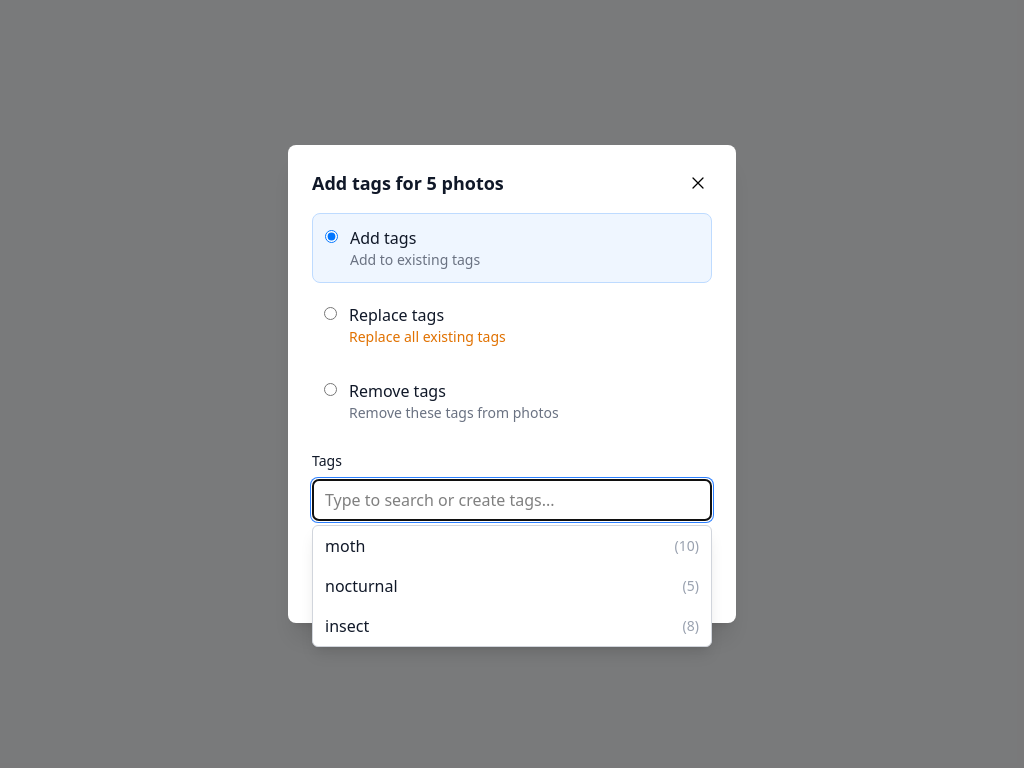
Scenario: BulkTagModal › Tag Input › can remove tags by clicking X on chip
This screenshot has width=1024, height=768.
Type "moth" into the field with placeholder "Type to search or create tags...".
click(512, 500); type("moth")  # box [312, 479, 712, 521]
Then press Enter
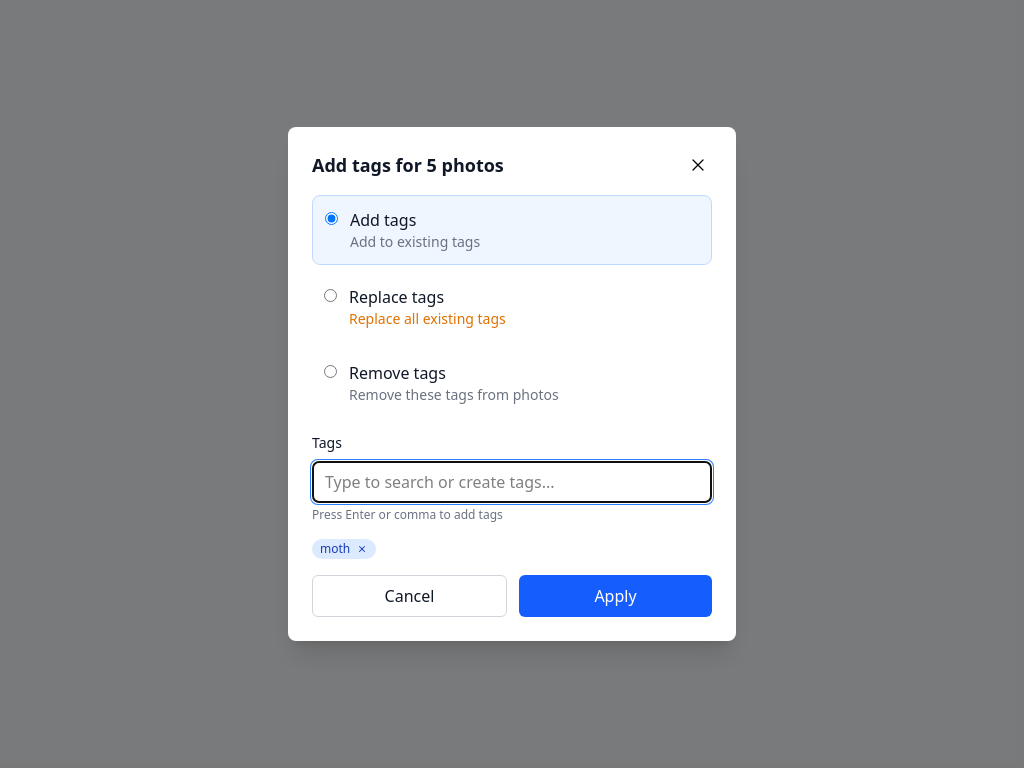
Expected: the text "moth" is shown, [320, 541, 350, 557]
Note: Click remove button
Click the button named "Remove tag moth".
click(362, 549)  # box [356, 543, 368, 555]
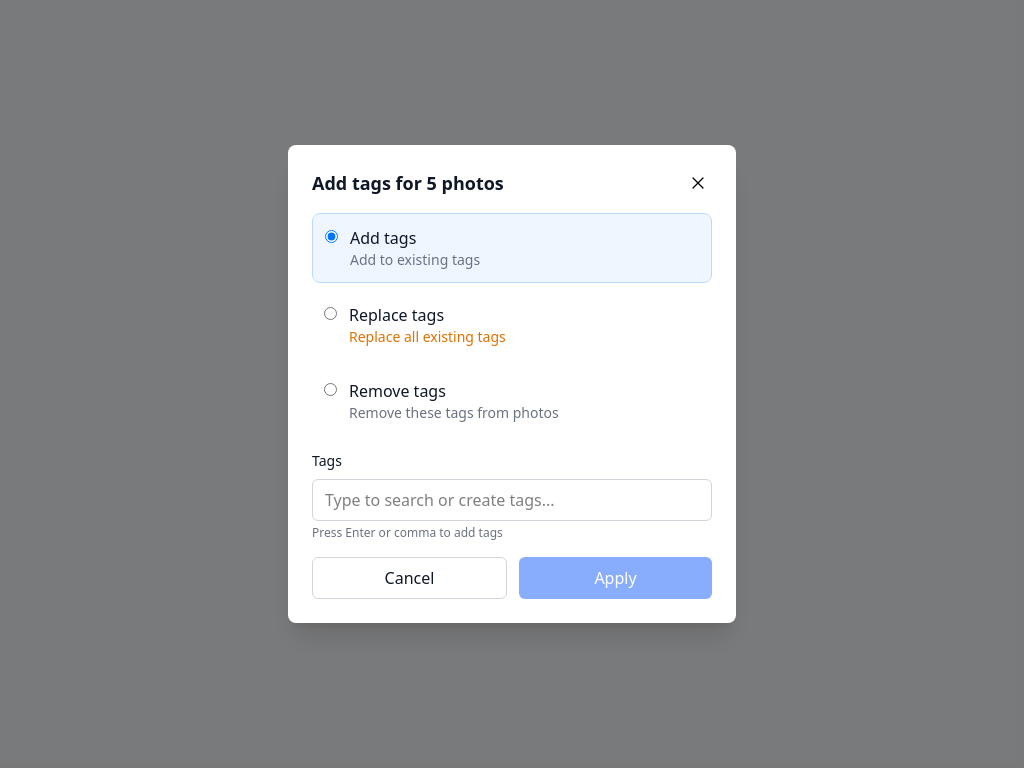
Expected: the button "moth" is gone
